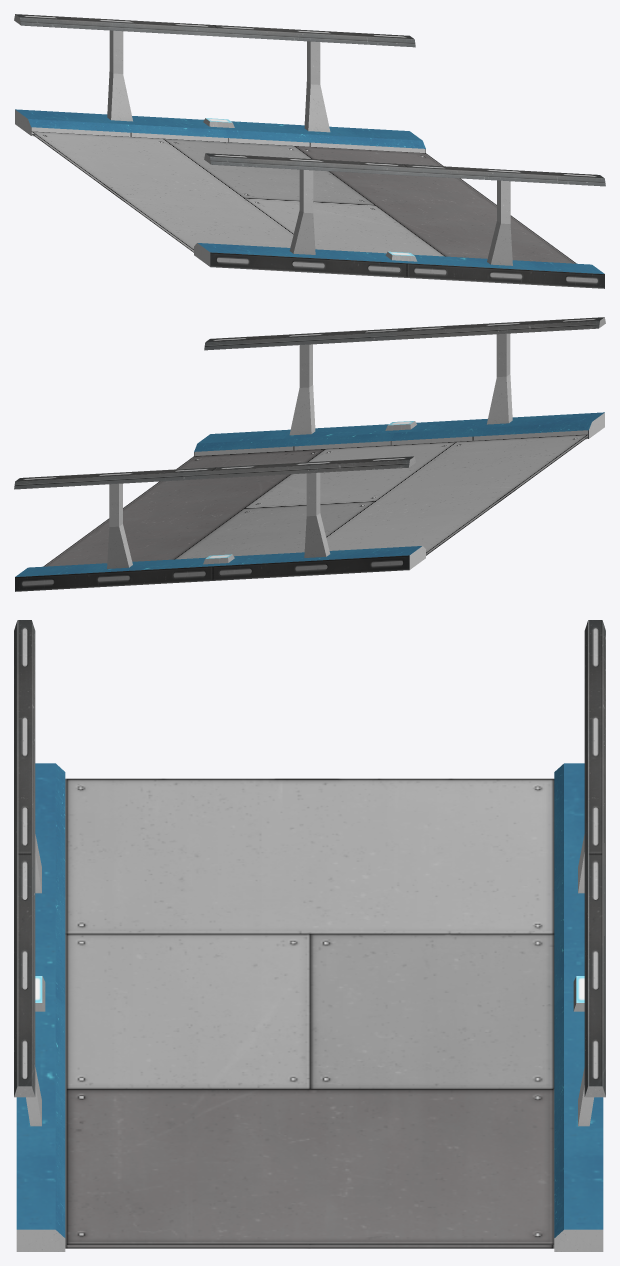
The model's file is Ramp_Slope_PlateForm_01.FBX.
3 renders of one model, top to bottom at view 1: azimuth 30°, elevation 25°; view 2: azimuth 150°, elevation 25°; view 3: azimuth 270°, elevation 25°, orthographic. The views are drawn at different scales.
Visible parts, largest first — view 1: Ramp_Slope_PlateForm_01; view 2: Ramp_Slope_PlateForm_01; view 3: Ramp_Slope_PlateForm_01.
Part boxes in pixels (x1,y1,x2,y2): Ramp_Slope_PlateForm_01: (14, 14, 605, 288); Ramp_Slope_PlateForm_01: (14, 317, 605, 591); Ramp_Slope_PlateForm_01: (14, 620, 605, 1251).
Size of the model in its own units: 140 by 77.34 by 121.
